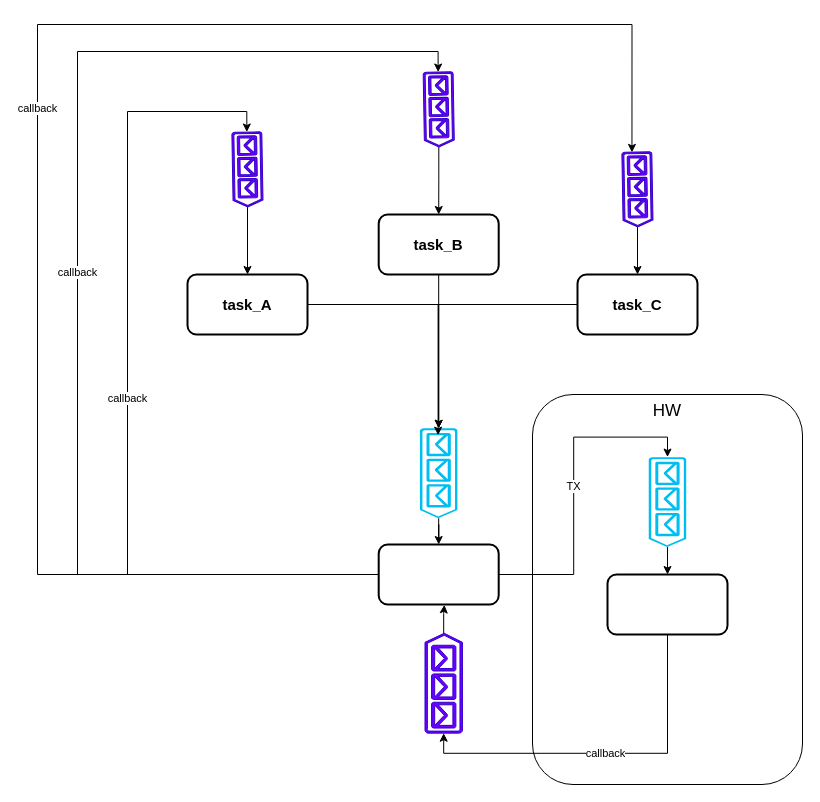
Image size: 820x802. Some labels were removed from this diagram. Here are the shapes that lost their labels. From the top down, the centre of each, then its label:
(x=438, y=574): task_ I2C
(x=667, y=604): I2C Driver
